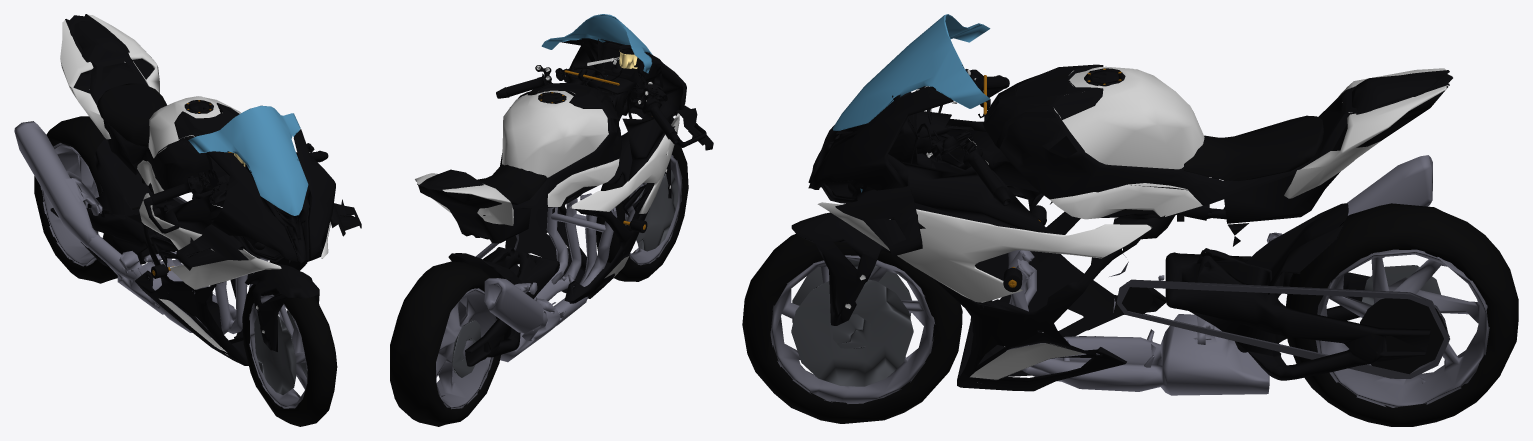
3 views of the same model, side by side, from view 1: azimuth 30°, elevation 25°; view 2: azimuth 150°, elevation 25°; view 3: azimuth 270°, elevation 25° (orthographic). The views are drawn at different scales.
Bounding box in the file's own units: 0.799 × 1.16 × 2.03.
